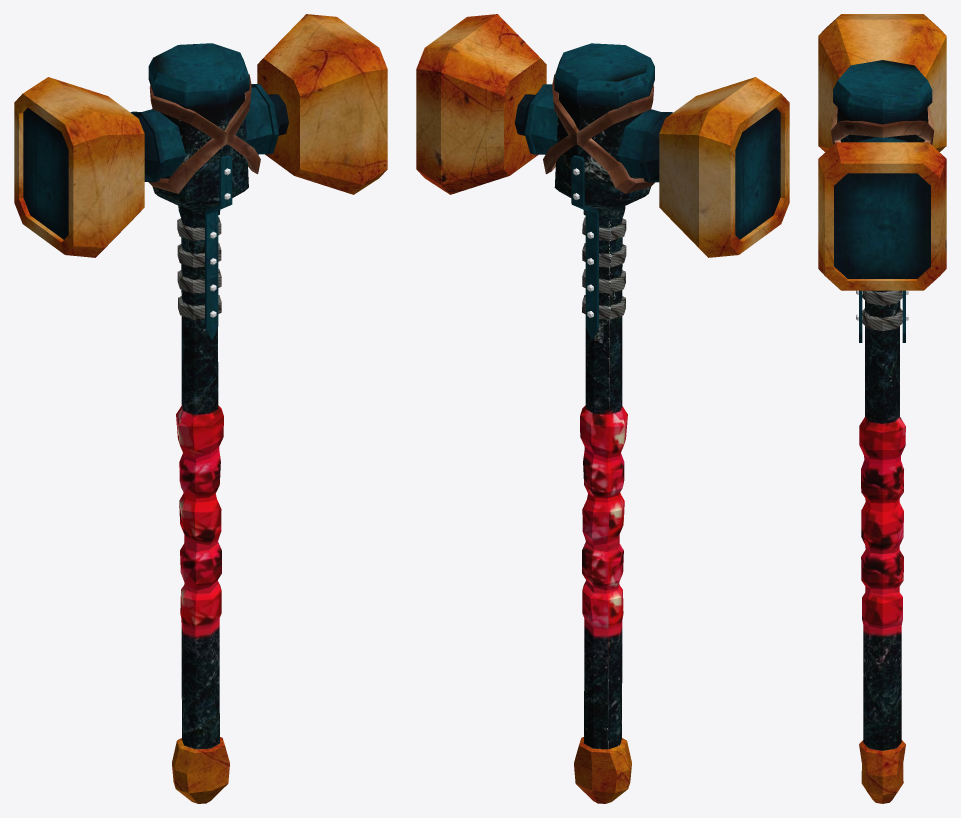
File: Hammer_Double4.fbx
3 views of the same model, side by side, from view 1: azimuth 30°, elevation 25°; view 2: azimuth 150°, elevation 25°; view 3: azimuth 270°, elevation 25° (orthographic). The views are drawn at different scales.
Visible parts, largest first — view 1: Hammer_Double; view 2: Hammer_Double; view 3: Hammer_Double.
Boxes of the visible parts, x1,y1,x2,y2 form: Hammer_Double: (14, 14, 387, 803); Hammer_Double: (416, 14, 789, 803); Hammer_Double: (818, 14, 946, 803).
Size of the model in its own units: 42.6 by 95.51 by 15.48.
1 material, 1 textured.
